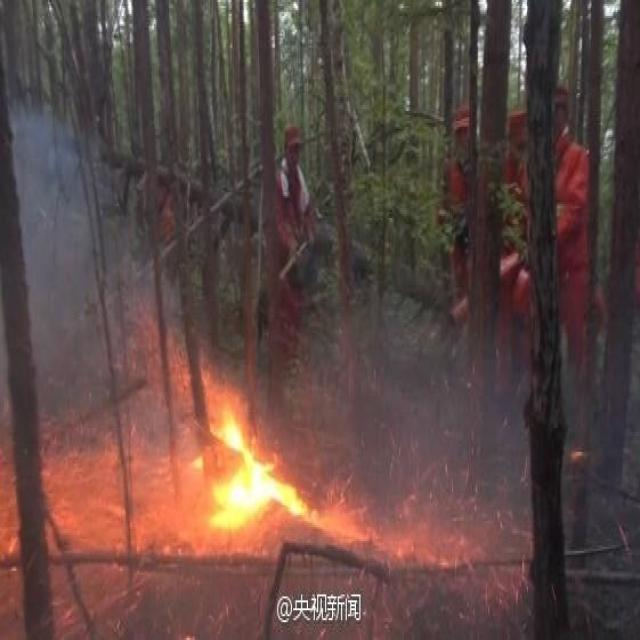Fire: (210, 412, 310, 531)
Smoke: (1, 103, 193, 450), (281, 323, 528, 537)
